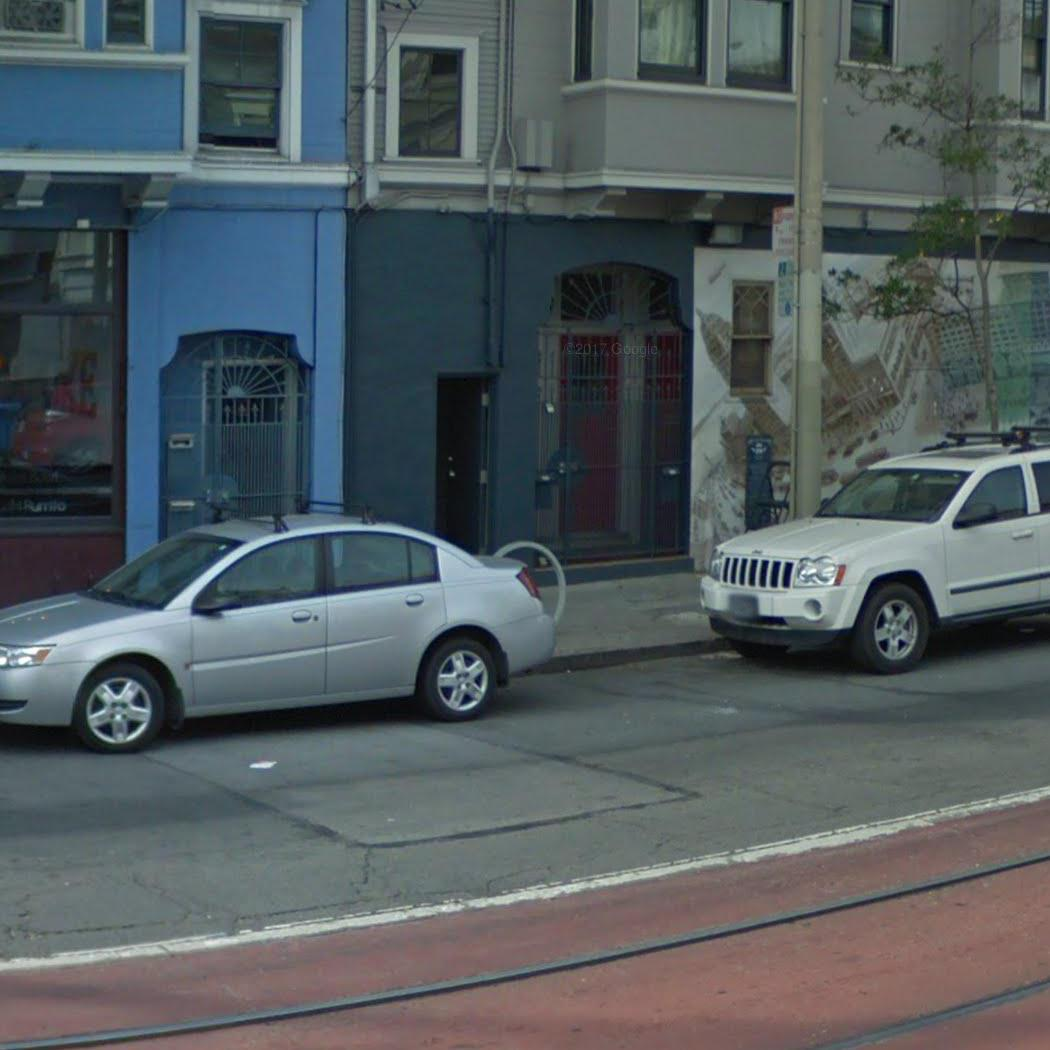2 Hour Parking: (776, 262, 796, 319)
No Parking: (771, 205, 797, 254)
